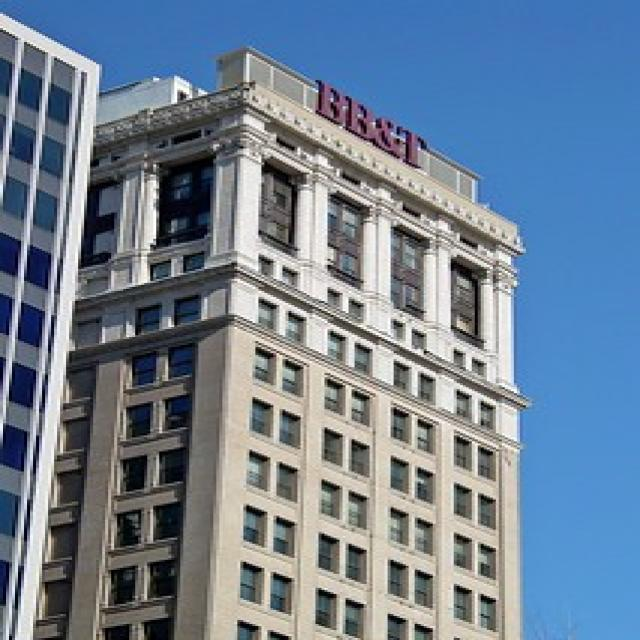building: (74, 42, 530, 640)
